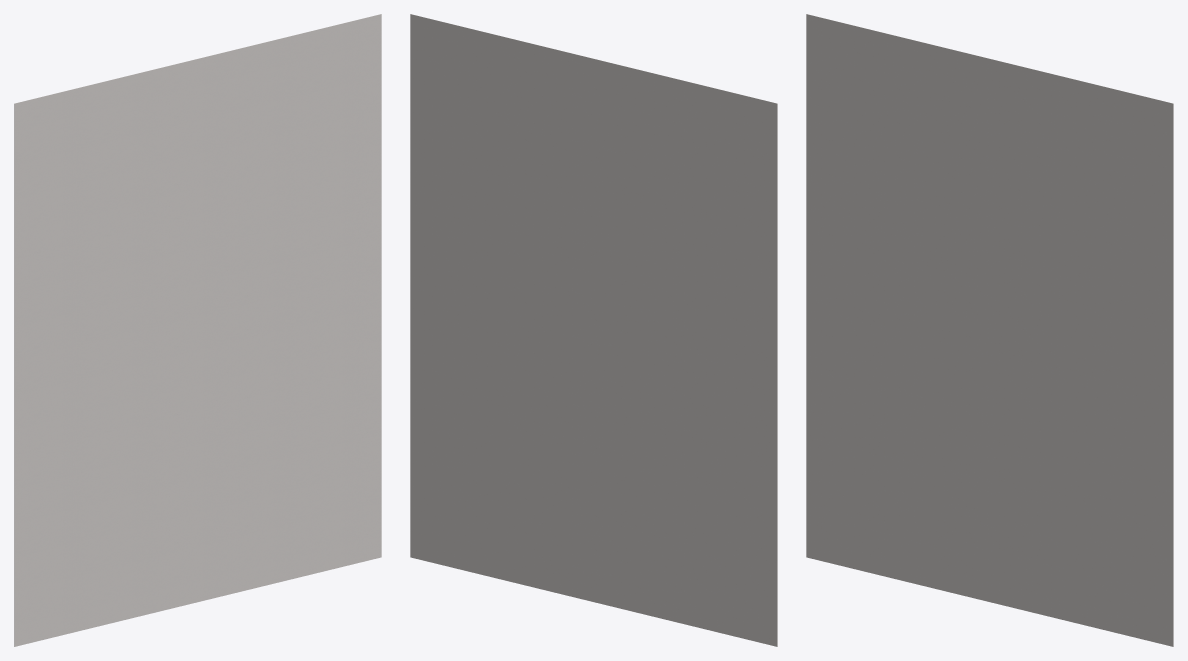
File: Paper.obj
3 views of the same model, side by side, from view 1: azimuth 30°, elevation 25°; view 2: azimuth 150°, elevation 25°; view 3: azimuth 330°, elevation 25° (orthographic).
Visible parts, largest first — view 1: Paper; view 2: Paper; view 3: Paper.
Part boxes in pixels (left/top/right/bottom): Paper: left=14, top=14, right=381, bottom=646; Paper: left=410, top=14, right=777, bottom=646; Paper: left=806, top=14, right=1173, bottom=646.
Bounding box in the file's own units: 8.27 × 11.69 × 0.0047.
1 material, 1 textured.
